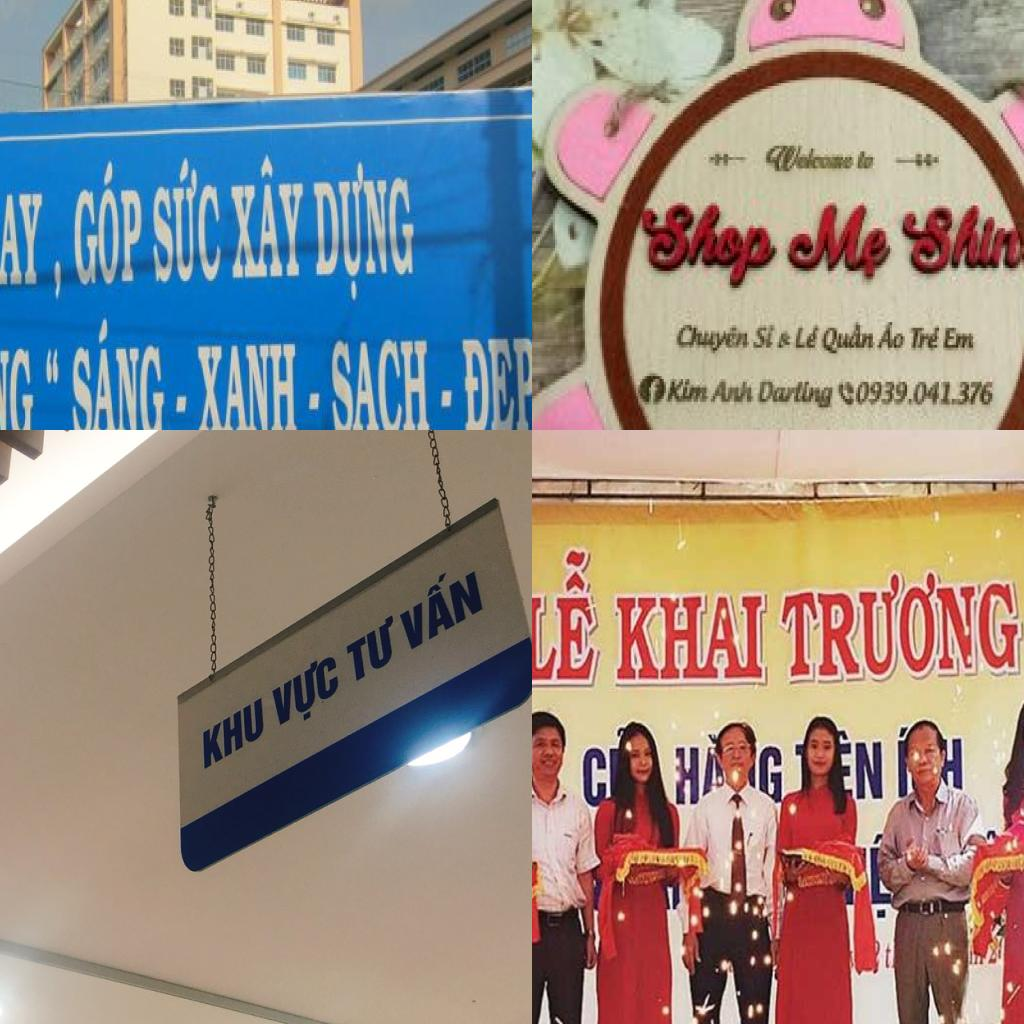text: (776, 567, 1024, 686), (308, 148, 417, 305), (613, 591, 769, 689), (624, 200, 784, 294), (68, 311, 165, 430), (64, 156, 142, 298), (228, 148, 306, 288), (190, 335, 302, 430), (323, 335, 433, 430), (894, 199, 1024, 279), (150, 151, 224, 288), (781, 200, 896, 288), (532, 545, 600, 690), (454, 325, 532, 430), (269, 647, 344, 738), (202, 693, 266, 772), (0, 181, 43, 294), (674, 727, 730, 809), (343, 610, 400, 687), (854, 379, 996, 407), (0, 330, 34, 430), (760, 143, 858, 177), (672, 322, 754, 356), (756, 379, 836, 413), (818, 319, 880, 362), (854, 740, 886, 803), (582, 744, 609, 809), (759, 744, 785, 805), (708, 379, 758, 407), (941, 736, 965, 794), (666, 376, 713, 405), (895, 725, 911, 800), (875, 320, 907, 354), (42, 334, 60, 393), (941, 325, 978, 353), (907, 325, 943, 353), (792, 325, 824, 353), (751, 322, 779, 353), (775, 328, 796, 353), (647, 379, 664, 407), (882, 940, 895, 972)
